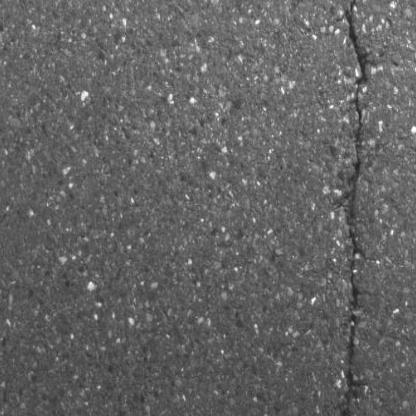Cracks: (337, 0, 372, 416)
